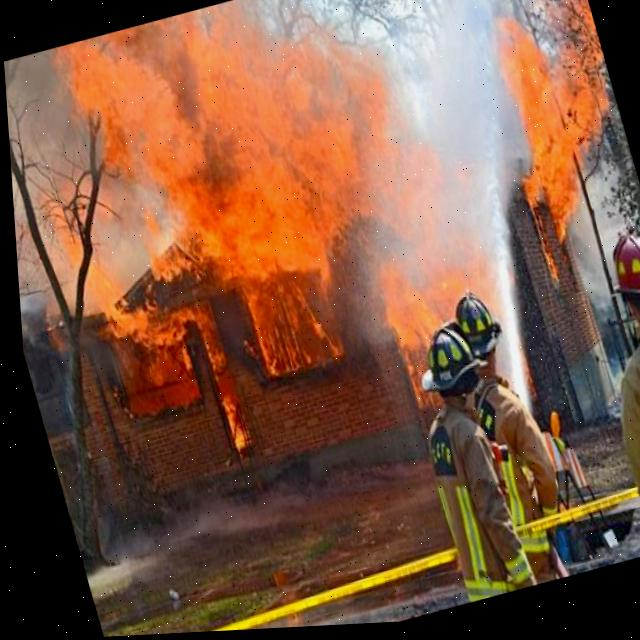fire: (55, 0, 482, 514), (495, 0, 608, 429)
smoke: (241, 0, 533, 393), (3, 48, 91, 340), (77, 145, 176, 310)
